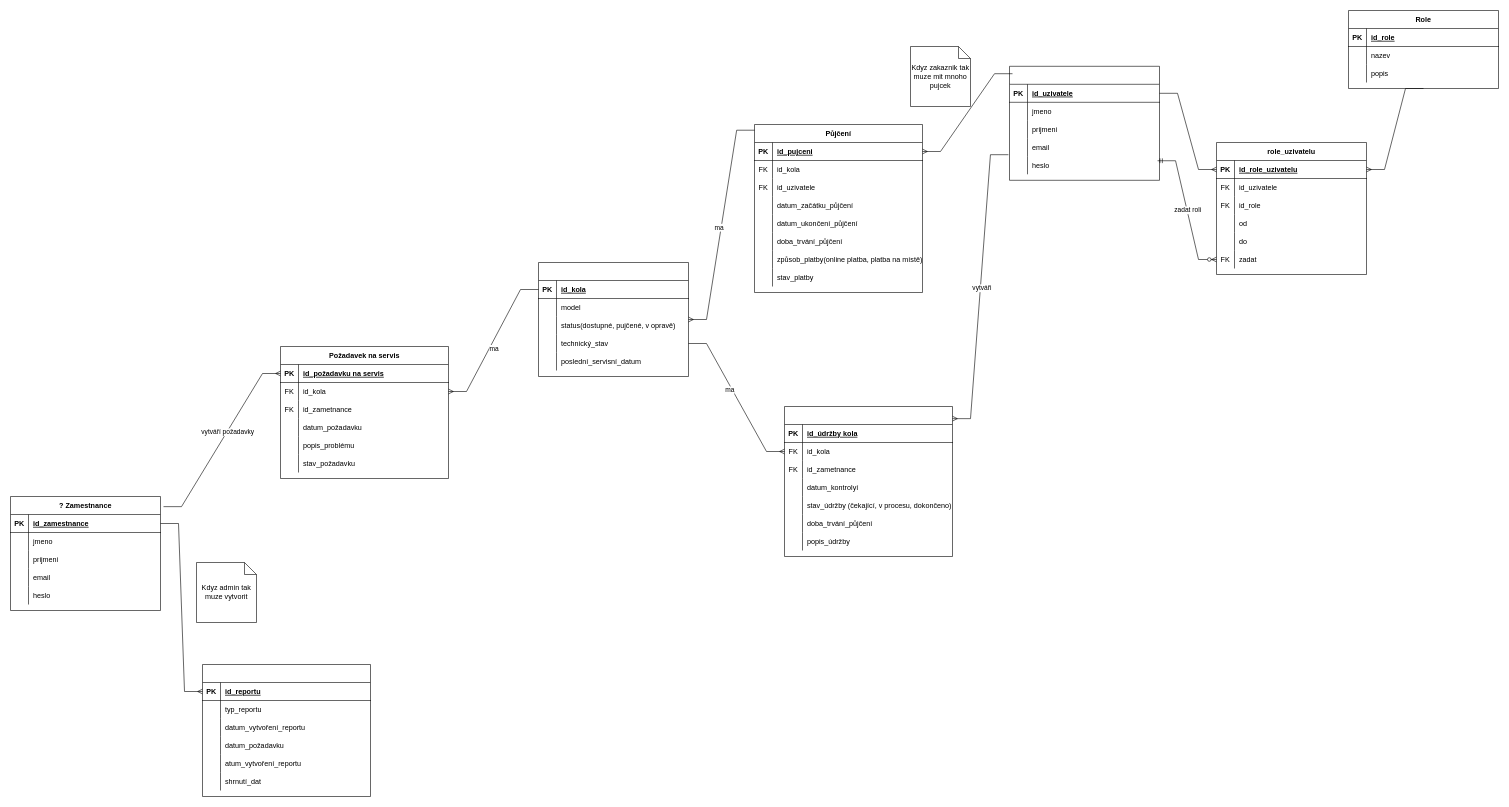
Some shapes in this 1509 by 807 pixel diagram are drawn without their labels. Each missing label, with the box of its shape:
Kolo: (538, 262, 688, 376)
Statistiky a reporty: (202, 664, 370, 796)
Uživatele: (1009, 66, 1160, 180)
Údržba kola: (784, 406, 952, 556)
